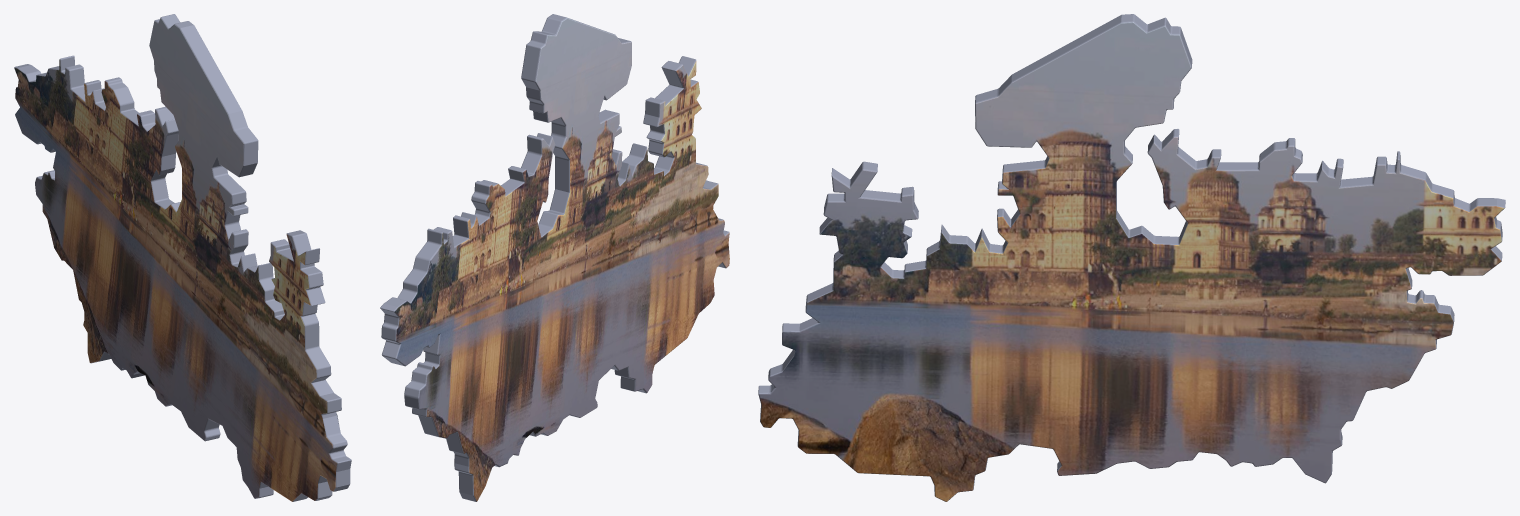
File: Madhya pradesh.glb
3 renders of one model, left to right at view 1: azimuth 30°, elevation 25°; view 2: azimuth 150°, elevation 25°; view 3: azimuth 270°, elevation 25°, orthographic. The views are drawn at different scales.
Parts seen in each view (by area): view 1: Object_26; view 2: Object_26; view 3: Object_26.
Boxes of the visible parts, bbox=[...] form: Object_26: bbox=[14, 14, 351, 501]; Object_26: bbox=[380, 14, 729, 501]; Object_26: bbox=[758, 14, 1505, 501].
Bounding box in the file's own units: 0.0442 × 0.9152 × 1.29.
1 material, 1 textured.
